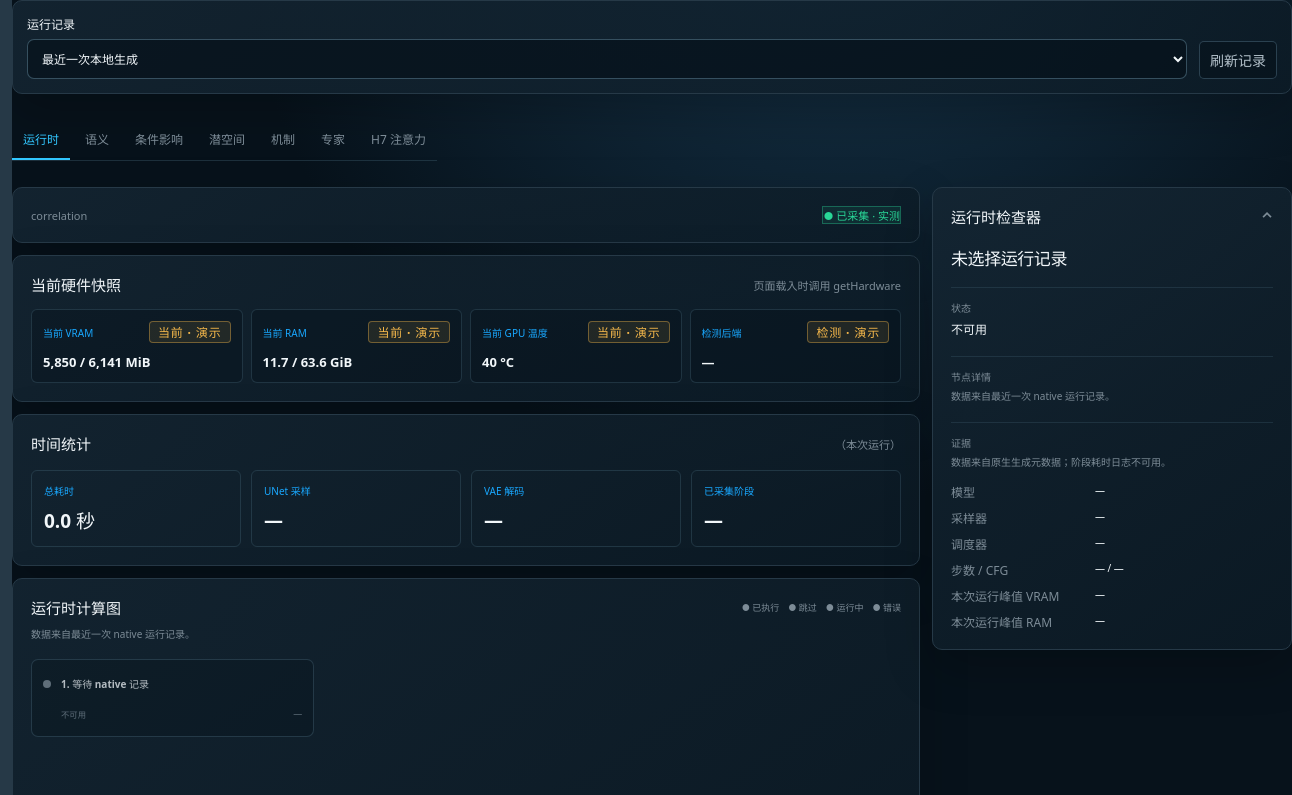
microscope latent correlation › uses actual sparse telemetry steps and clears the matrix on an old sample
Click the tab "潜空间" at (227, 140), box [198,120,256,160]
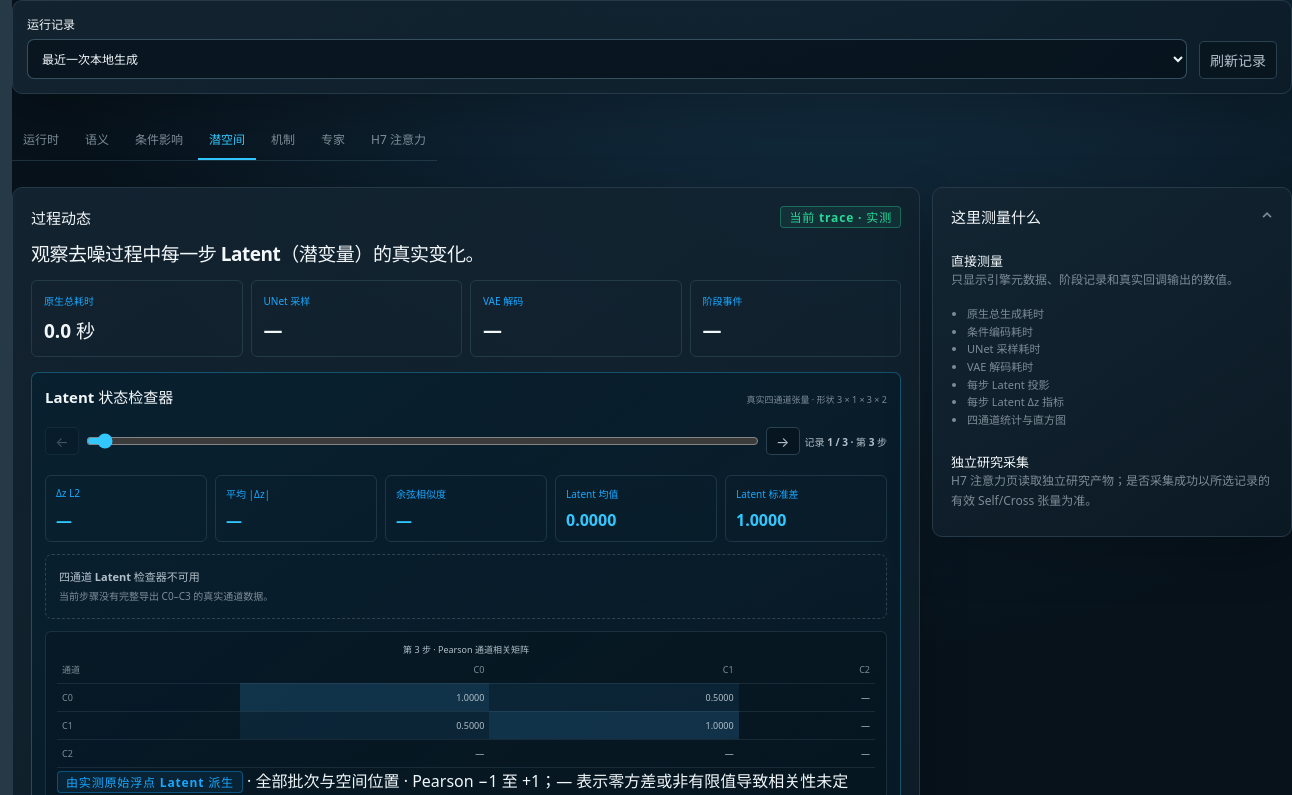
Expected: the cell named "C2 与 C2：未定义" reads "—", [861,747,870,760]
Now the cell named "C0 与 C1：0.5000" is shown, box [489,683,739,711]
Click the button named "下一个遥测步骤" at (783, 441), box [766,427,800,455]
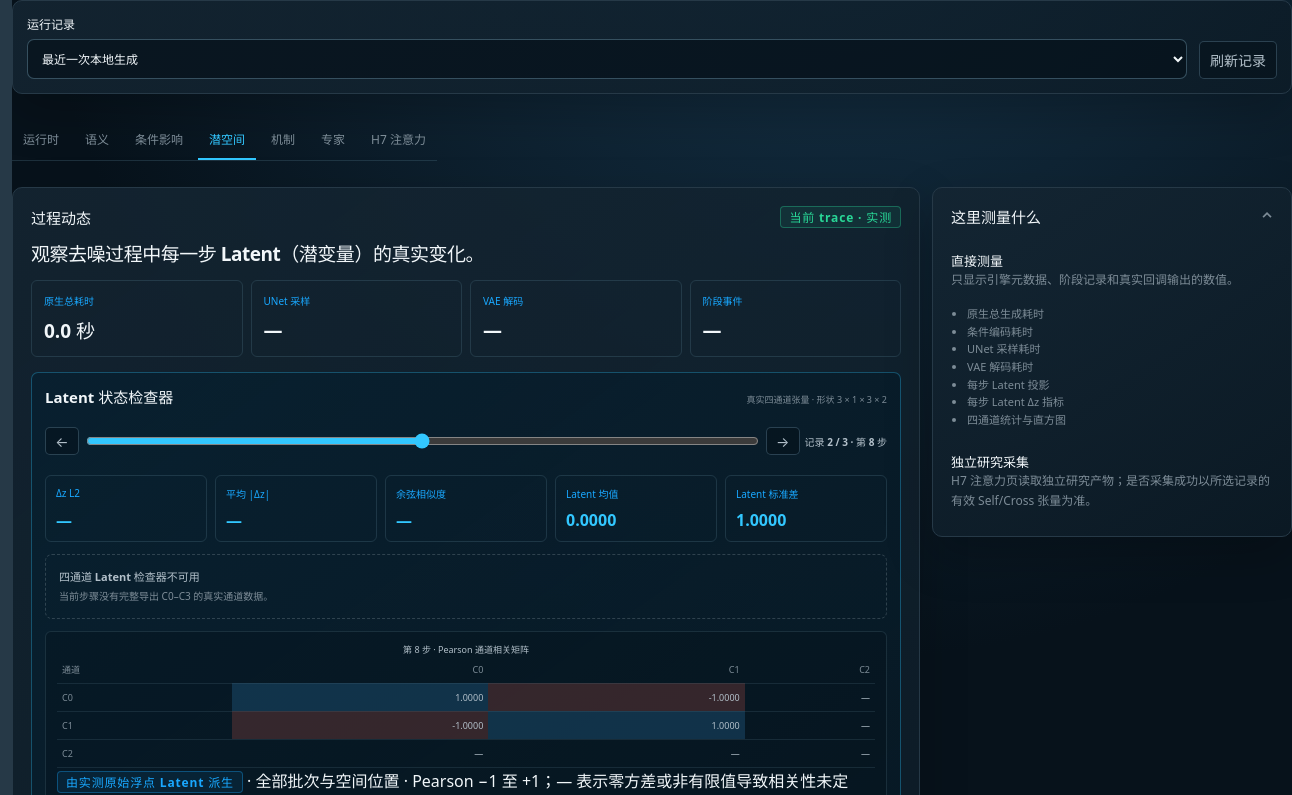
Now the cell named "C0 与 C1：-1.0000" is shown, box [488,683,745,711]
Set the slider named "Latent 遥测步骤" to "2" at (751, 441), box [86,421,759,461]
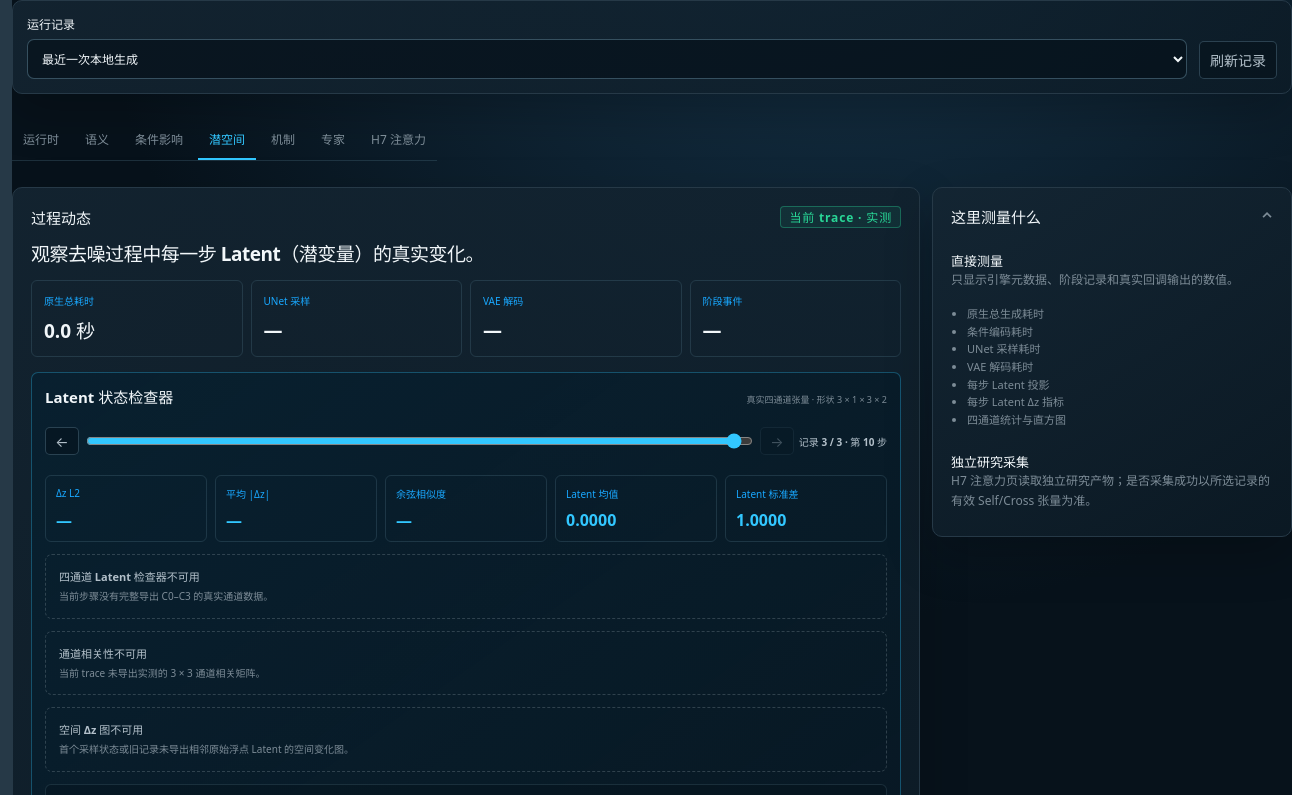
Now the text "Pearson" is gone
Now the text "通道相关性不可用" is shown, box [59,646,147,661]
Click the button named "上一个遥测步骤" at (62, 441), box [45,427,79,455]
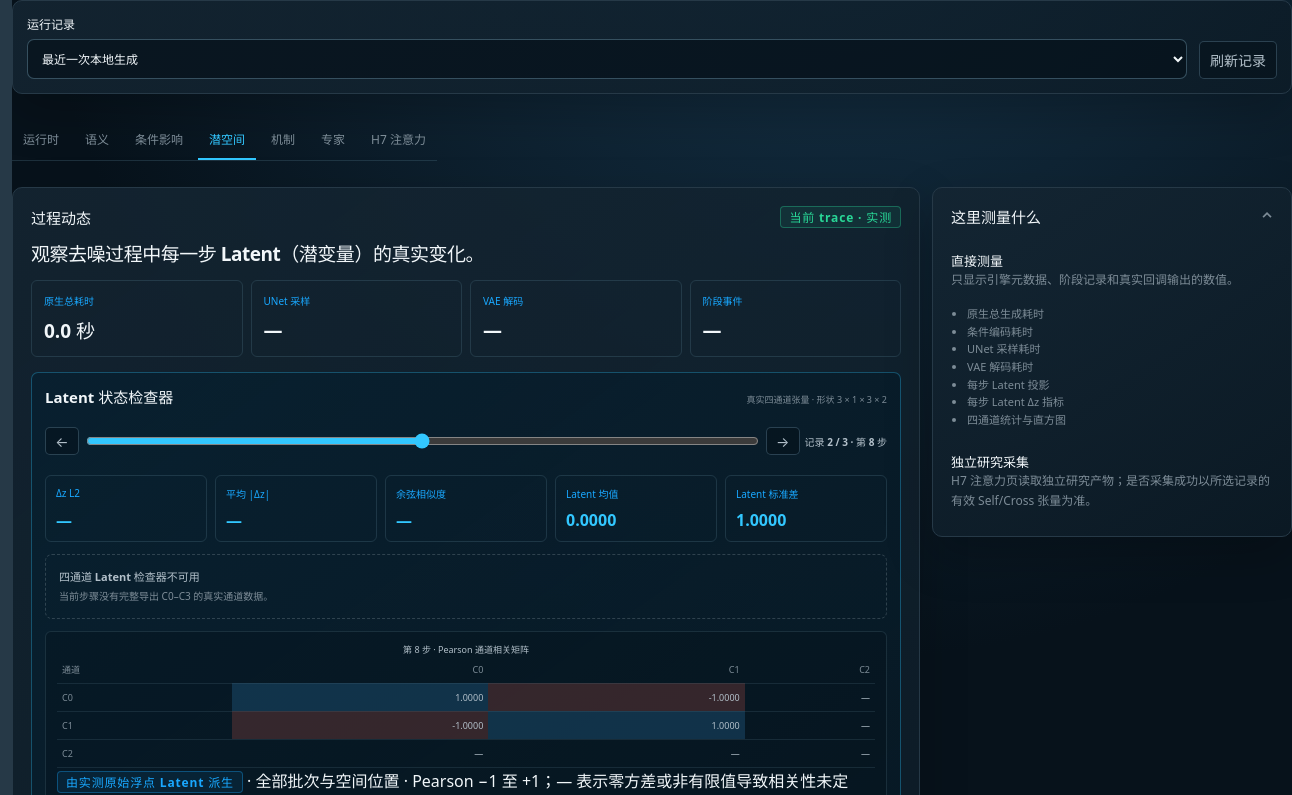
Now the table is shown, box [57,643,875,768]
